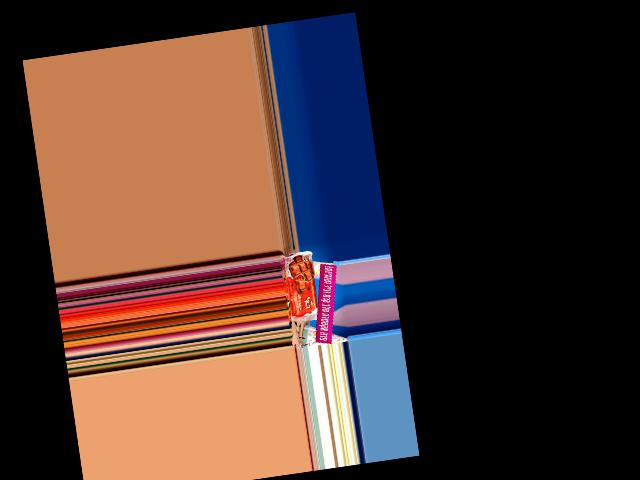chocolate: (281, 248, 323, 325)
